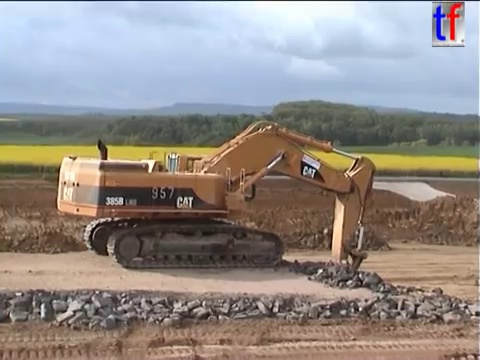excavator: (52, 116, 379, 306)
